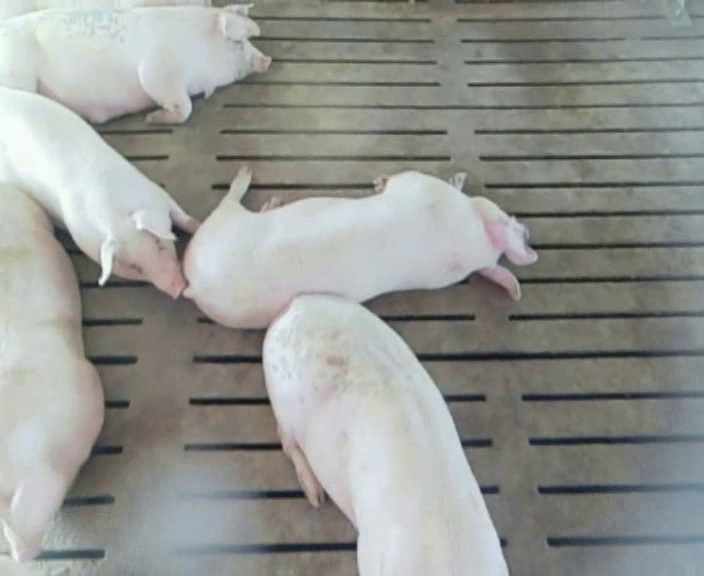pig: (263, 295, 506, 573), (184, 167, 536, 327)
